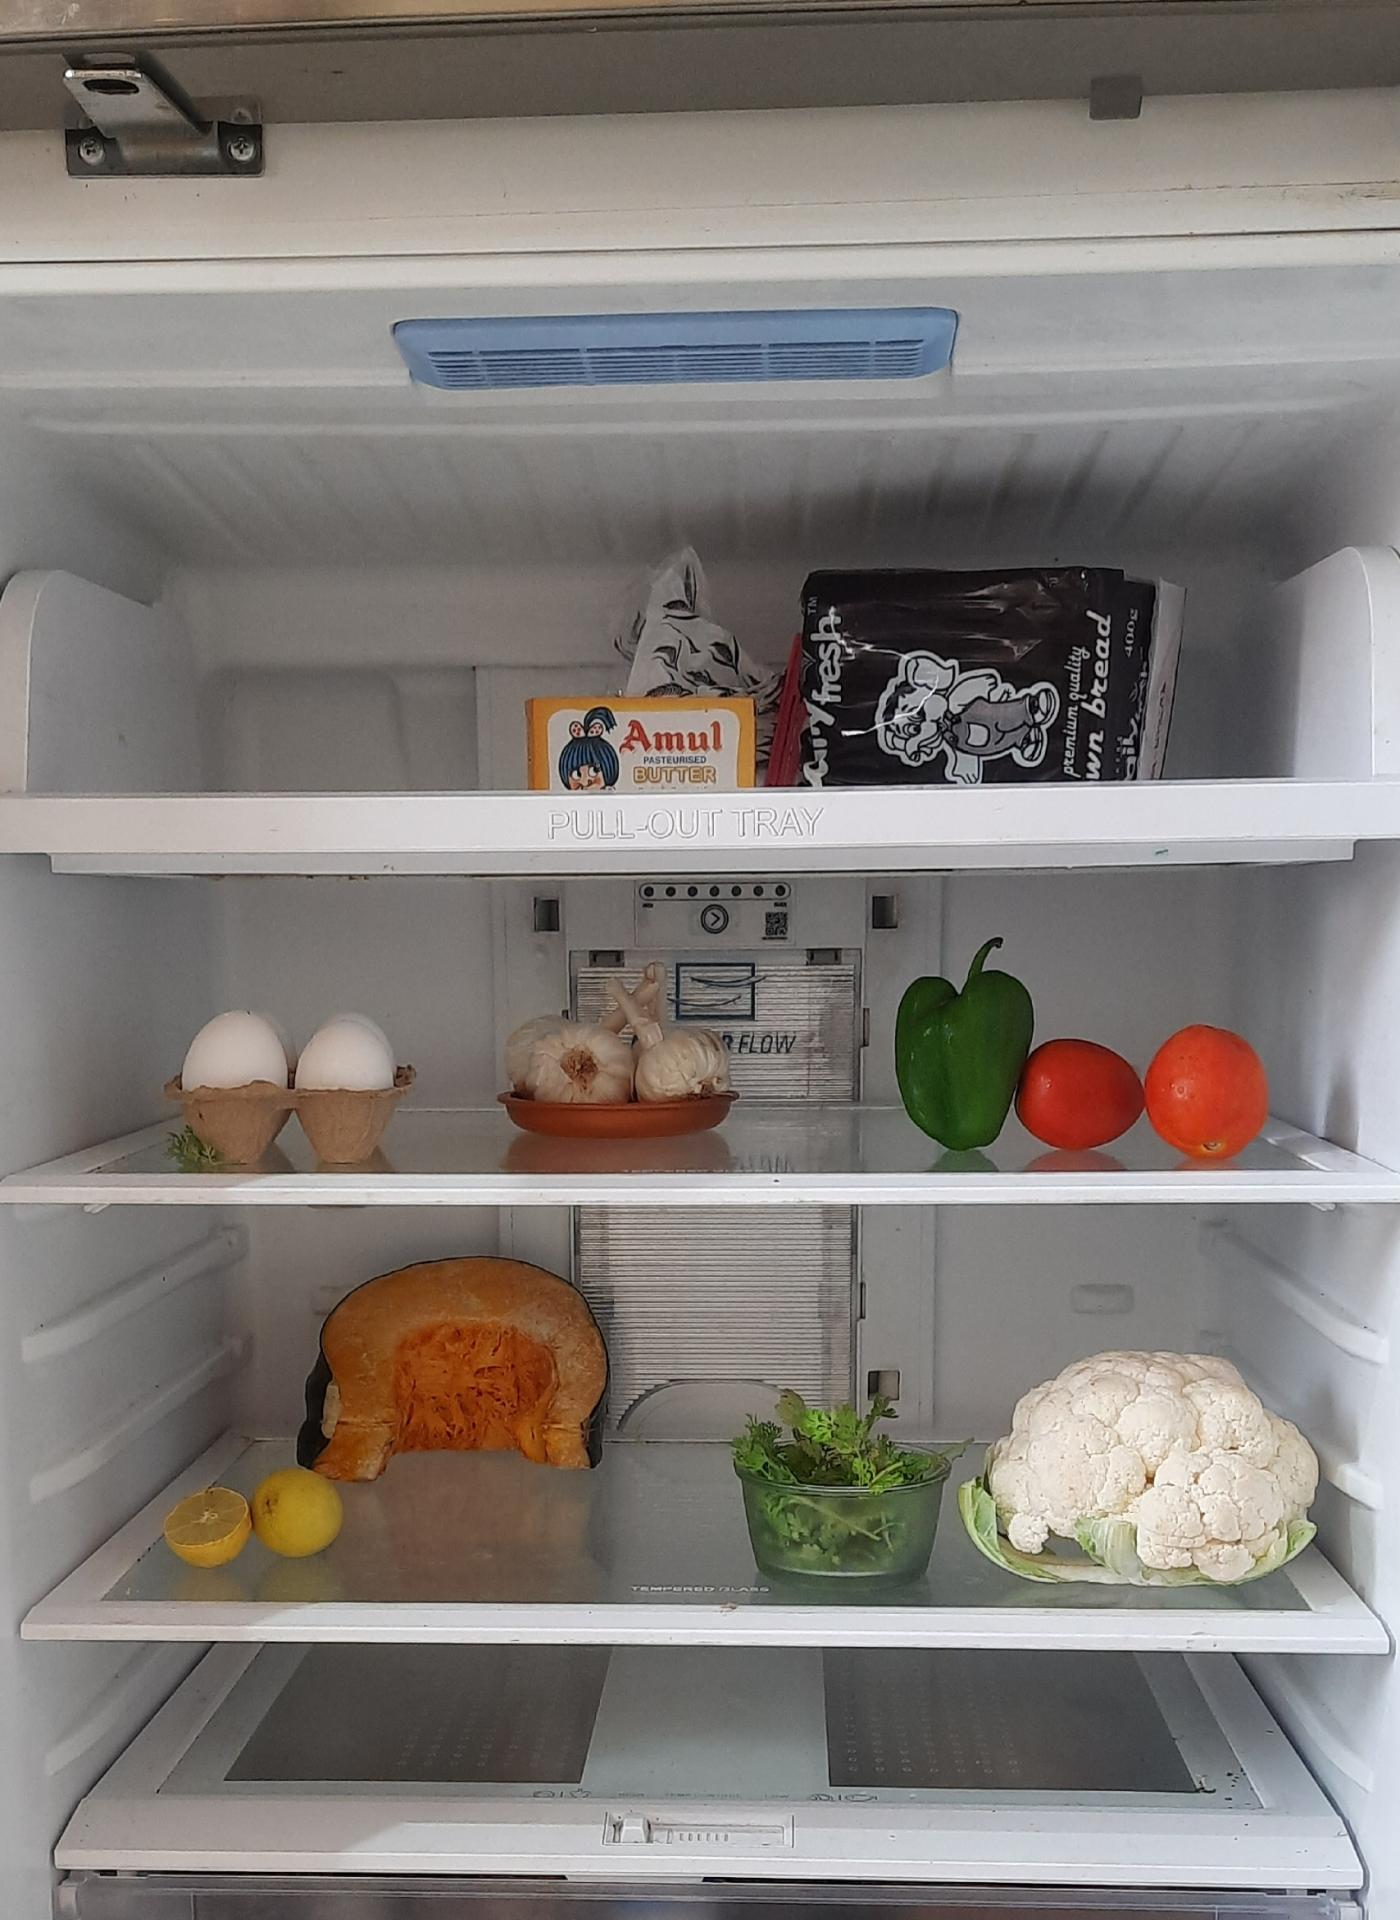bread: (629, 550, 1179, 784)
butter: (532, 693, 762, 793)
capsicum: (899, 954, 1038, 1154)
cauliflower: (981, 1340, 1325, 1604)
coriander: (742, 1385, 938, 1576)
egg: (185, 1006, 404, 1163)
garlic: (502, 953, 732, 1106)
lemon: (160, 1467, 341, 1567)
pumpkin: (304, 1255, 611, 1473)
tomato: (1032, 1026, 1273, 1155)
